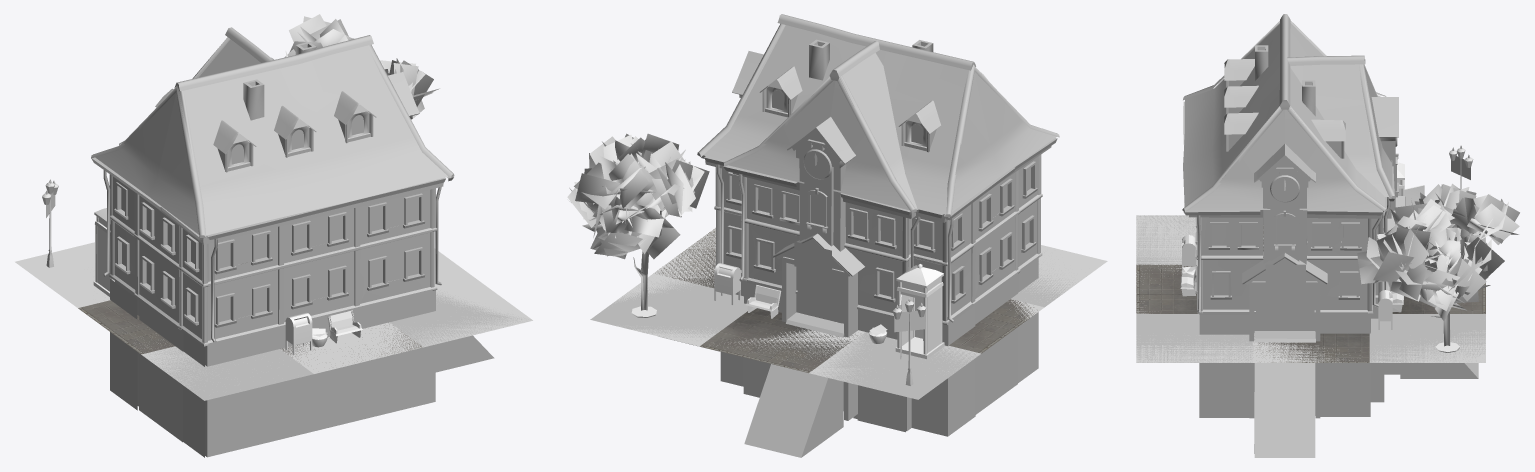
Rendered from post.gltf.
3 renders of one model, left to right at view 1: azimuth 30°, elevation 25°; view 2: azimuth 150°, elevation 25°; view 3: azimuth 270°, elevation 25°, orthographic. The views are drawn at different scales.
Parts seen in each view (by area): view 1: _lod0, ground, file_c4_corner4.008, file_c4_corner4.005, prop_tree, file_c4_center3.002, prop_pier_bench2, prop_lightpost1; view 2: _lod0, prop_tree, ground, file_c4_corner4.006, file_c4_corner4.007, file_c4_center3.012, file_c4_center3.002, file_c4_center3.001, file_c4_corner4.008, prop_lightpost1, prop_pier_bench; view 3: _lod0, prop_tree, ground, file_c4_corner4.006, file_c4_corner4.005, file_c4_center3.011, file_c4_center3.001, file_c4_corner4.008, file_c4_center3.012, prop_lightpost1.
Part boxes in pixels (x1,y1,x2,y2): _lod0: [91, 27, 494, 457]; ground: [15, 242, 532, 391]; file_c4_corner4.008: [144, 346, 313, 400]; file_c4_corner4.005: [390, 290, 530, 346]; prop_tree: [271, 14, 439, 119]; file_c4_center3.002: [78, 300, 174, 354]; prop_pier_bench2: [327, 310, 362, 343]; prop_lightpost1: [42, 179, 58, 267]; _lod0: [662, 14, 1059, 457]; prop_tree: [567, 133, 709, 310]; ground: [611, 228, 1107, 383]; file_c4_corner4.006: [590, 278, 747, 340]; file_c4_corner4.007: [810, 332, 980, 399]; file_c4_center3.012: [700, 308, 857, 372]; file_c4_center3.002: [949, 299, 1037, 353]; file_c4_center3.001: [655, 228, 715, 288]; file_c4_corner4.008: [992, 252, 1086, 307]; prop_lightpost1: [892, 298, 926, 385]; prop_pier_bench: [746, 285, 781, 318]; _lod0: [1182, 14, 1478, 457]; prop_tree: [1357, 183, 1519, 346]; ground: [1136, 215, 1485, 362]; file_c4_corner4.006: [1369, 314, 1485, 362]; file_c4_corner4.005: [1136, 314, 1252, 362]; file_c4_center3.011: [1136, 264, 1197, 313]; file_c4_center3.001: [1256, 333, 1369, 362]; file_c4_corner4.008: [1136, 215, 1196, 264]; file_c4_center3.012: [1392, 283, 1485, 313]; prop_lightpost1: [1449, 145, 1473, 188].
Size of what is drawn, in the model's own units: 3.44 by 2.93 by 3.3.
